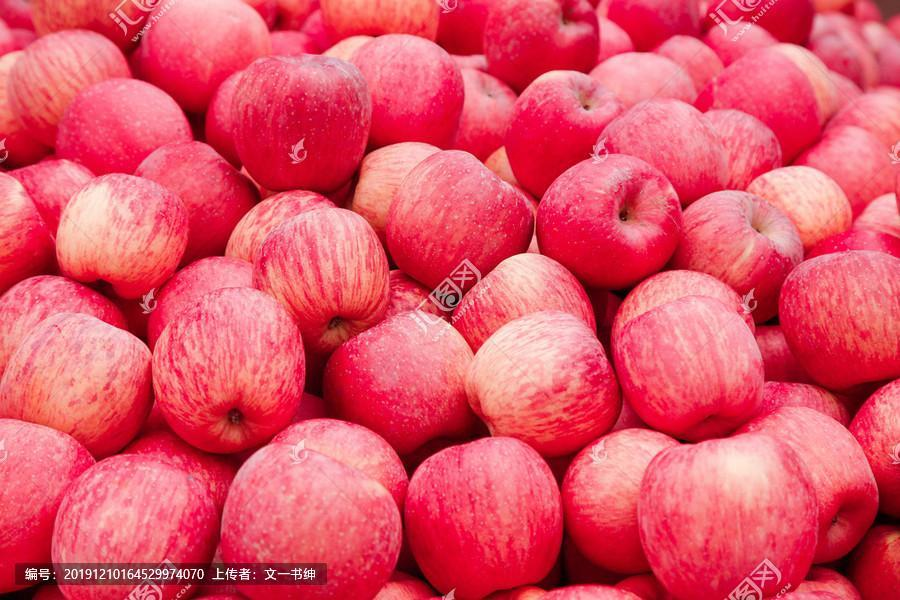apple: (636, 436, 819, 594), (218, 443, 401, 600), (402, 436, 566, 598), (151, 284, 309, 452), (50, 453, 217, 598), (206, 51, 373, 196), (317, 309, 480, 452), (463, 311, 619, 453), (615, 295, 771, 437), (3, 309, 153, 456), (385, 149, 535, 291), (249, 207, 390, 348), (535, 153, 683, 284), (695, 40, 844, 163), (53, 172, 191, 297), (778, 249, 900, 388), (501, 69, 627, 199), (682, 188, 804, 314), (135, 137, 260, 257), (55, 78, 192, 172), (317, 1, 439, 43)
